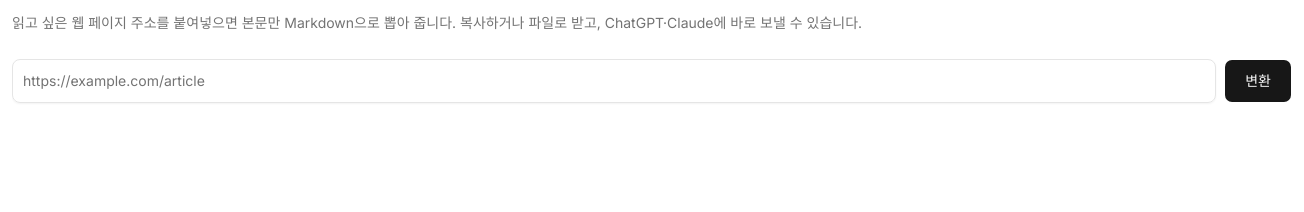
Test: invalid 오류는 메시지를 보이고 결과 카드를 만들지 않으며 입력창은 계속 쓸 수 있다
Type "https://example.com/a" into the field named "웹 페이지 URL".
click(614, 81); type("https://example.com/a")  # box [12,59,1216,103]
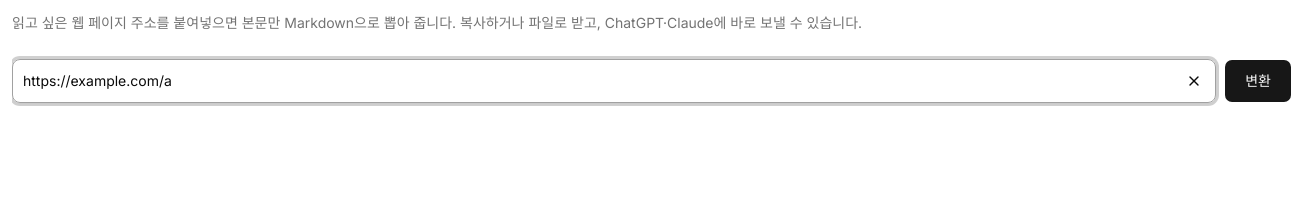
Click the button "변환".
click(1258, 81)  # box [1224,59,1292,103]
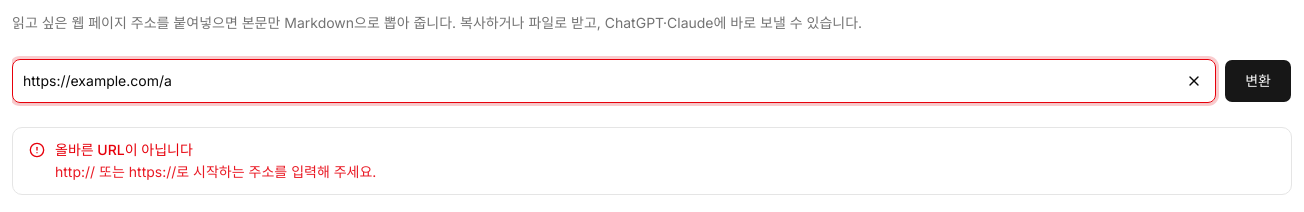
Now the message shows "올바른 URL이 아닙니다", box [55,141,193,158]
Type "x" into the field named "웹 페이지 URL".
click(614, 81); type("x")  # box [12,59,1216,103]
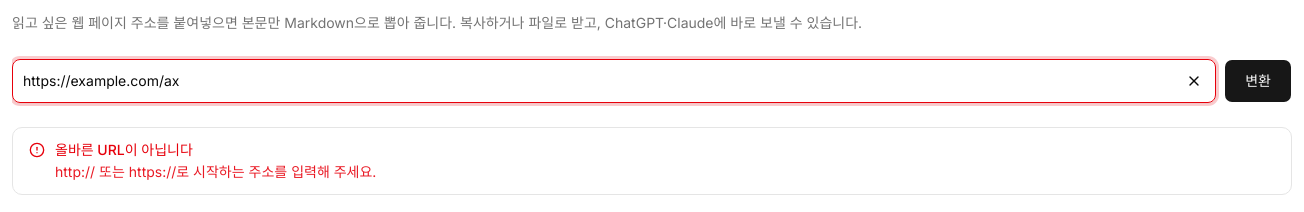
Now the field named "웹 페이지 URL" holds "https://example.com/ax", box [12,59,1216,103]
